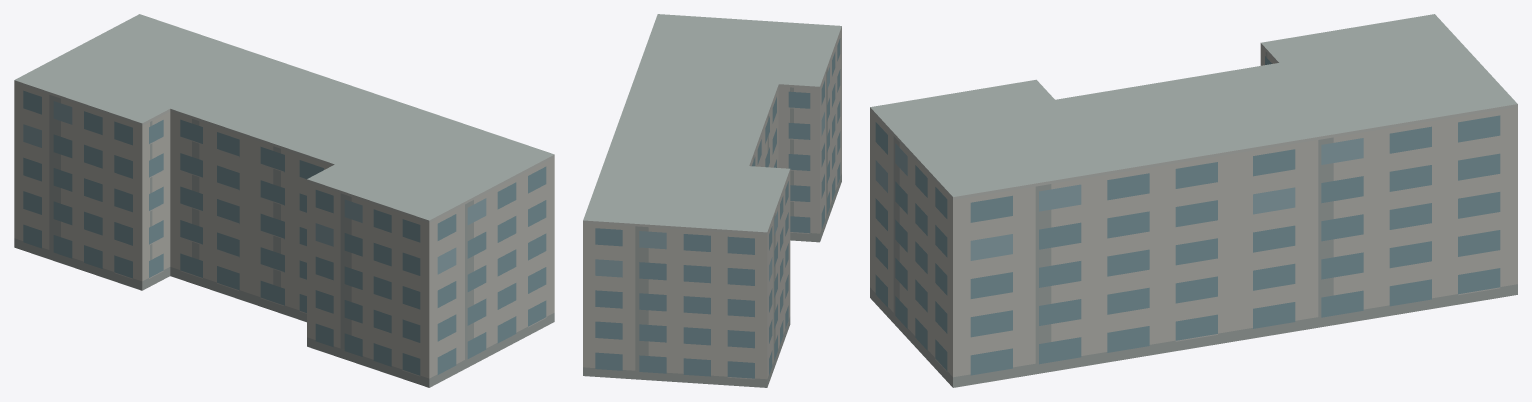
Rendered from residential-281fce9d-5ed8-4b35-a033-f523175924f2.glb.
3 views of the same model, side by side, from view 1: azimuth 30°, elevation 25°; view 2: azimuth 150°, elevation 25°; view 3: azimuth 270°, elevation 25° (orthographic). The views are drawn at different scales.
Visible parts, largest first — view 1: residential-281fce9d-5ed8-4b35-a033-f523175924f2.tmp; view 2: residential-281fce9d-5ed8-4b35-a033-f523175924f2.tmp; view 3: residential-281fce9d-5ed8-4b35-a033-f523175924f2.tmp.
Boxes of the visible parts, bbox=[...] form: residential-281fce9d-5ed8-4b35-a033-f523175924f2.tmp: bbox=[14, 14, 554, 387]; residential-281fce9d-5ed8-4b35-a033-f523175924f2.tmp: bbox=[583, 14, 841, 387]; residential-281fce9d-5ed8-4b35-a033-f523175924f2.tmp: bbox=[870, 14, 1517, 387].
Bounding box in the file's own units: 31.4 × 15.25 × 46.93.
